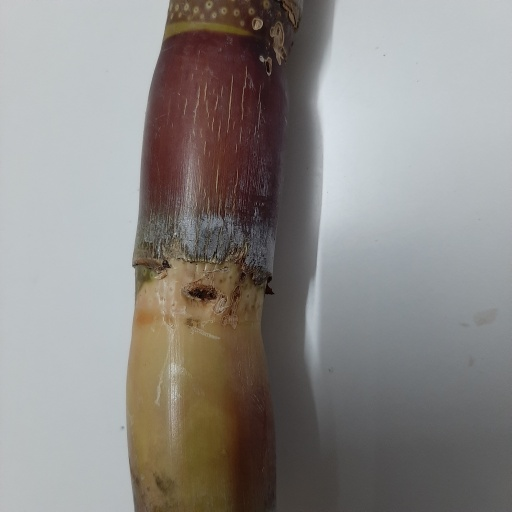Damage_Bud: (183, 280, 221, 303)
